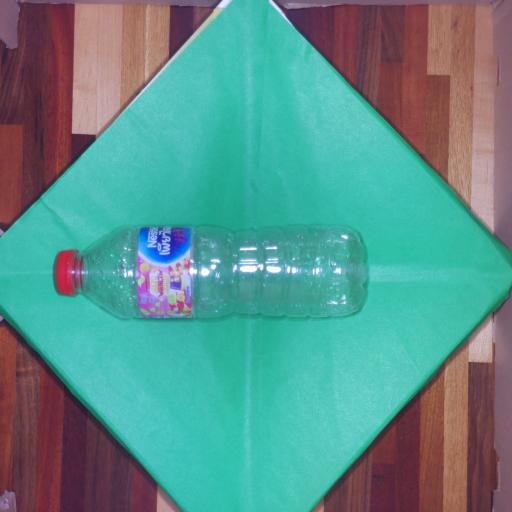bottle: (38, 218, 390, 330)
